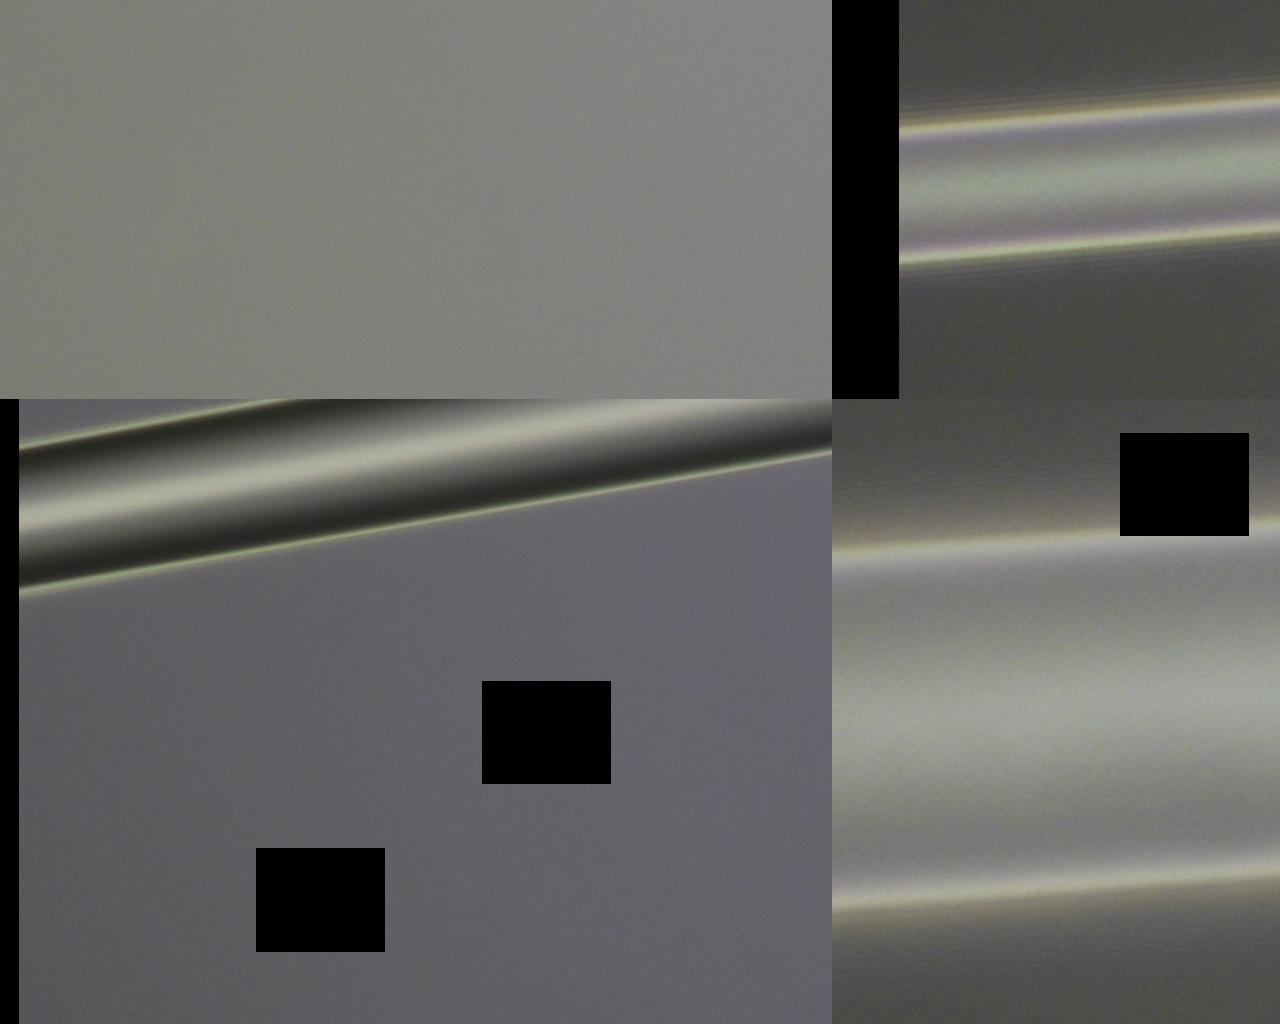fiber: (473, 396, 1280, 622), (819, 645, 1041, 1024), (0, 218, 473, 306)
